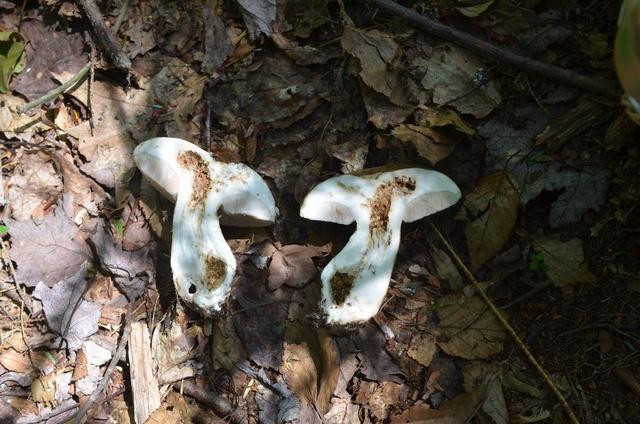Non-edible Mushroom: (298, 164, 462, 332), (131, 135, 279, 318)
